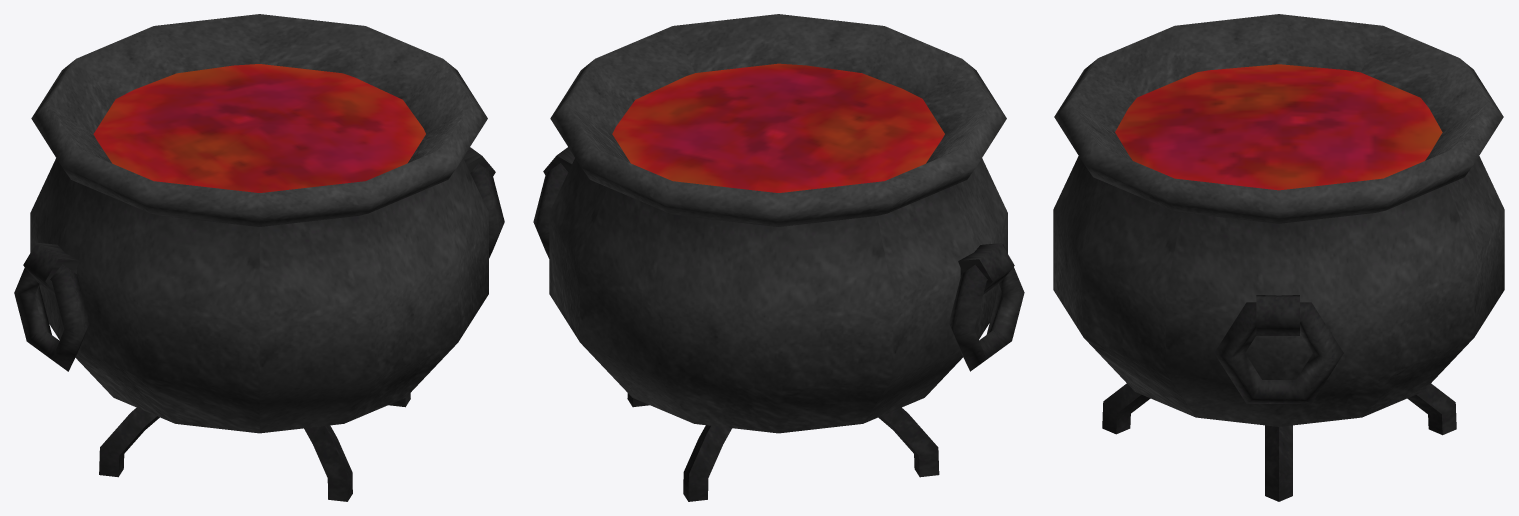
File: CauldronRed.fbx
The picture shows the model from 3 angles, left to right: view 1: azimuth 30°, elevation 25°; view 2: azimuth 150°, elevation 25°; view 3: azimuth 270°, elevation 25°; orthographic projection.
Visible parts, largest first — view 1: Cauldron_01; view 2: Cauldron_01; view 3: Cauldron_01.
Boxes of the visible parts, left/top/right/bottom form: Cauldron_01: left=14, top=14, right=504, bottom=501; Cauldron_01: left=533, top=14, right=1024, bottom=501; Cauldron_01: left=1053, top=14, right=1504, bottom=501.
Bounding box in the file's own units: 186 × 131 × 164.
